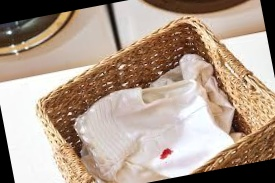blood: (157, 145, 174, 162)
